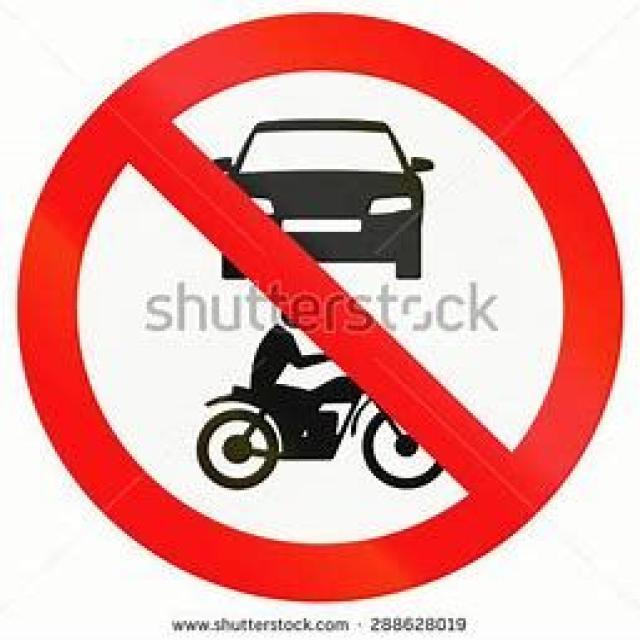ALL_MOTOR_VEHICLE_PROHIBITED: (1, 1, 640, 609)
